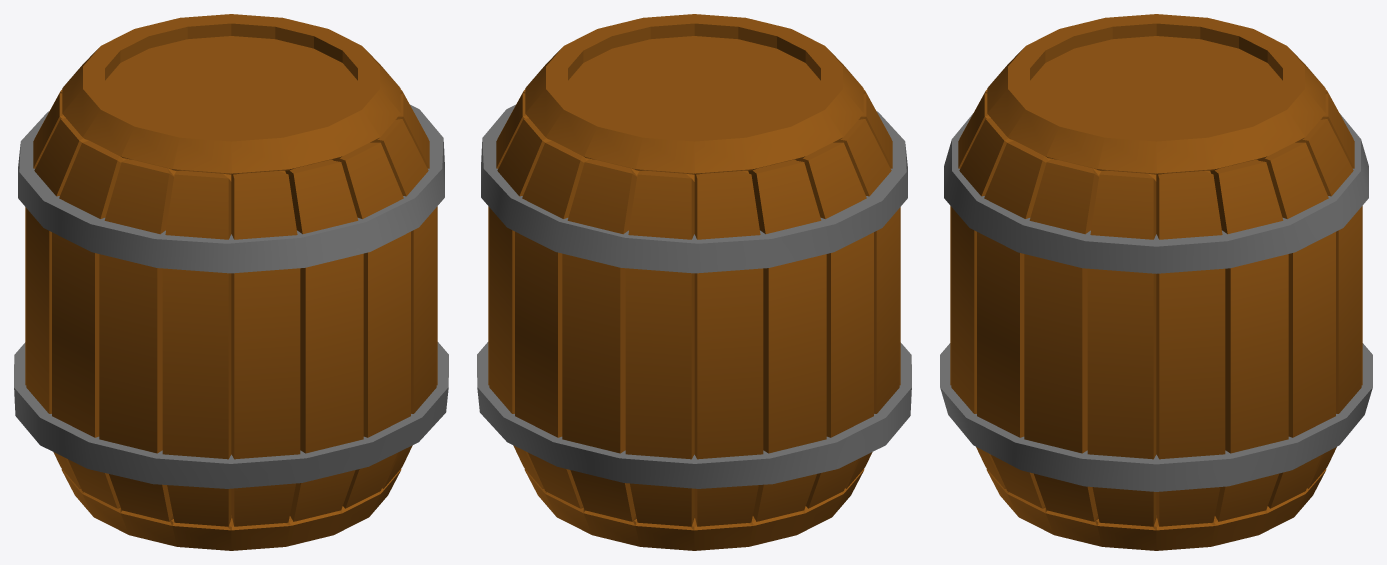
The model's file is Low Poly Barrell.FBX.
3 renders of one model, left to right at view 1: azimuth 30°, elevation 25°; view 2: azimuth 150°, elevation 25°; view 3: azimuth 270°, elevation 25°, orthographic.
Parts seen in each view (by area): view 1: Cylinder001, Cylinder003, Cylinder002; view 2: Cylinder001, Cylinder003, Cylinder002; view 3: Cylinder001, Cylinder003, Cylinder002.
Part boxes in pixels (x1,y1,x2,y2): Cylinder001: (25, 14, 437, 550); Cylinder003: (18, 104, 444, 273); Cylinder002: (14, 342, 448, 488); Cylinder001: (488, 14, 900, 550); Cylinder003: (481, 104, 907, 273); Cylinder002: (477, 342, 911, 488); Cylinder001: (950, 14, 1362, 550); Cylinder003: (944, 114, 1368, 273); Cylinder002: (940, 343, 1372, 491).
Size of the model in its own units: 39.21 by 39.74 by 38.4.
Materials: 2 (2 with a texture image).
